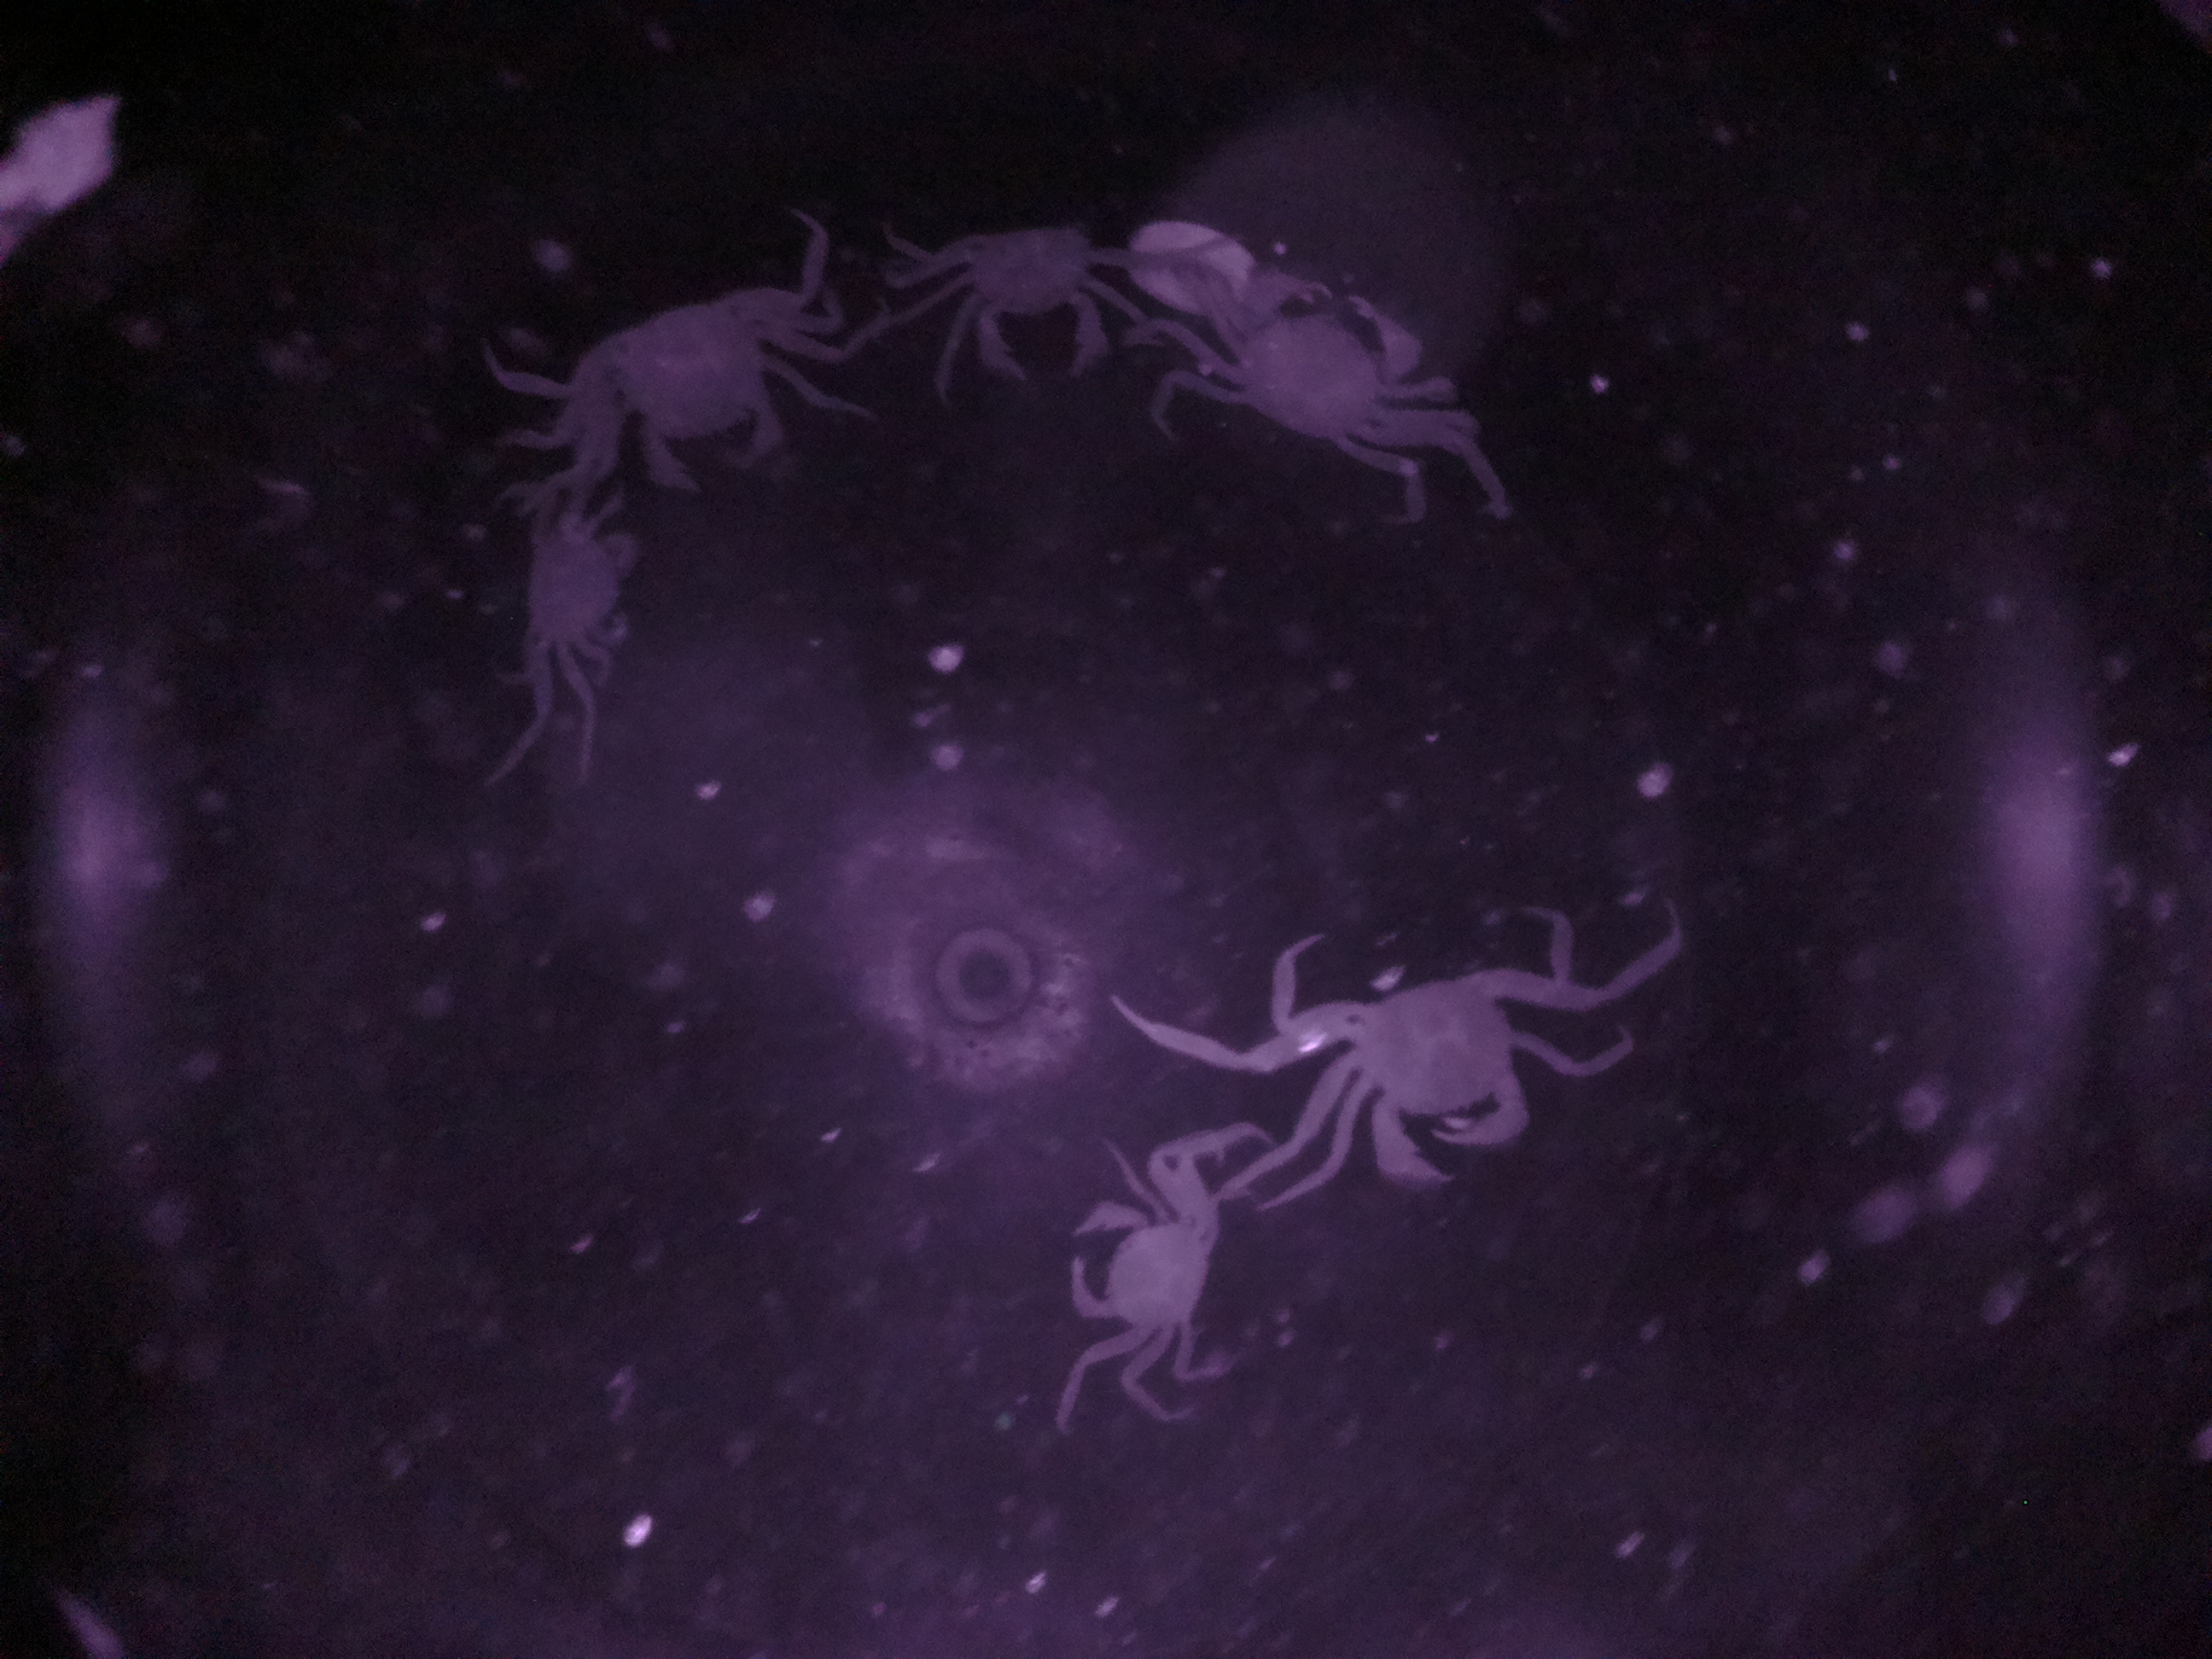Crab: (1289, 927, 1583, 1208), (570, 268, 850, 511), (1190, 247, 1430, 497), (921, 183, 1146, 420), (1047, 1129, 1223, 1408)
